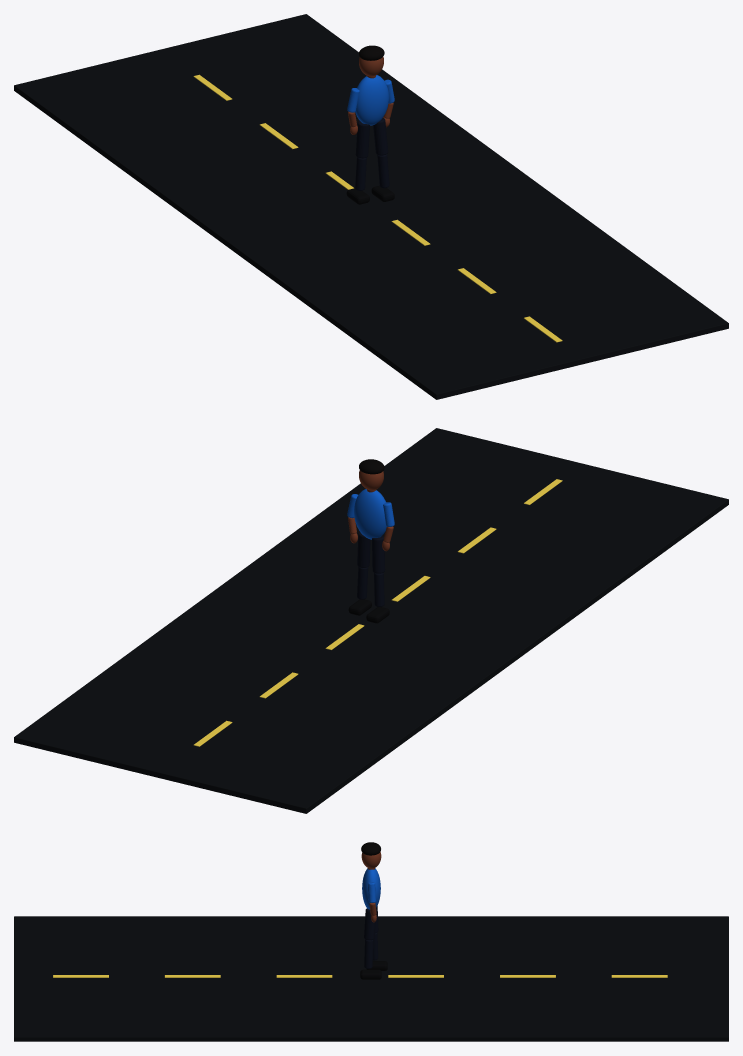
Rendered from standing_man_on_road.obj.
3 views of the same model, one above another, from view 1: azimuth 30°, elevation 25°; view 2: azimuth 150°, elevation 25°; view 3: azimuth 270°, elevation 25° (orthographic). The views are drawn at different scales.
Parts seen in each view (by area): view 1: road, torso; view 2: road, torso; view 3: road, torso.
Boxes of the visible parts, x1,y1,x2,y2 form: road: (14,14,728,399); torso: (355,75,388,125); road: (14,428,728,813); torso: (354,489,386,539); road: (14,916,728,1041); torso: (362,868,380,909).
Bounding box in the file's own units: 12.8 × 6.79 × 32.
